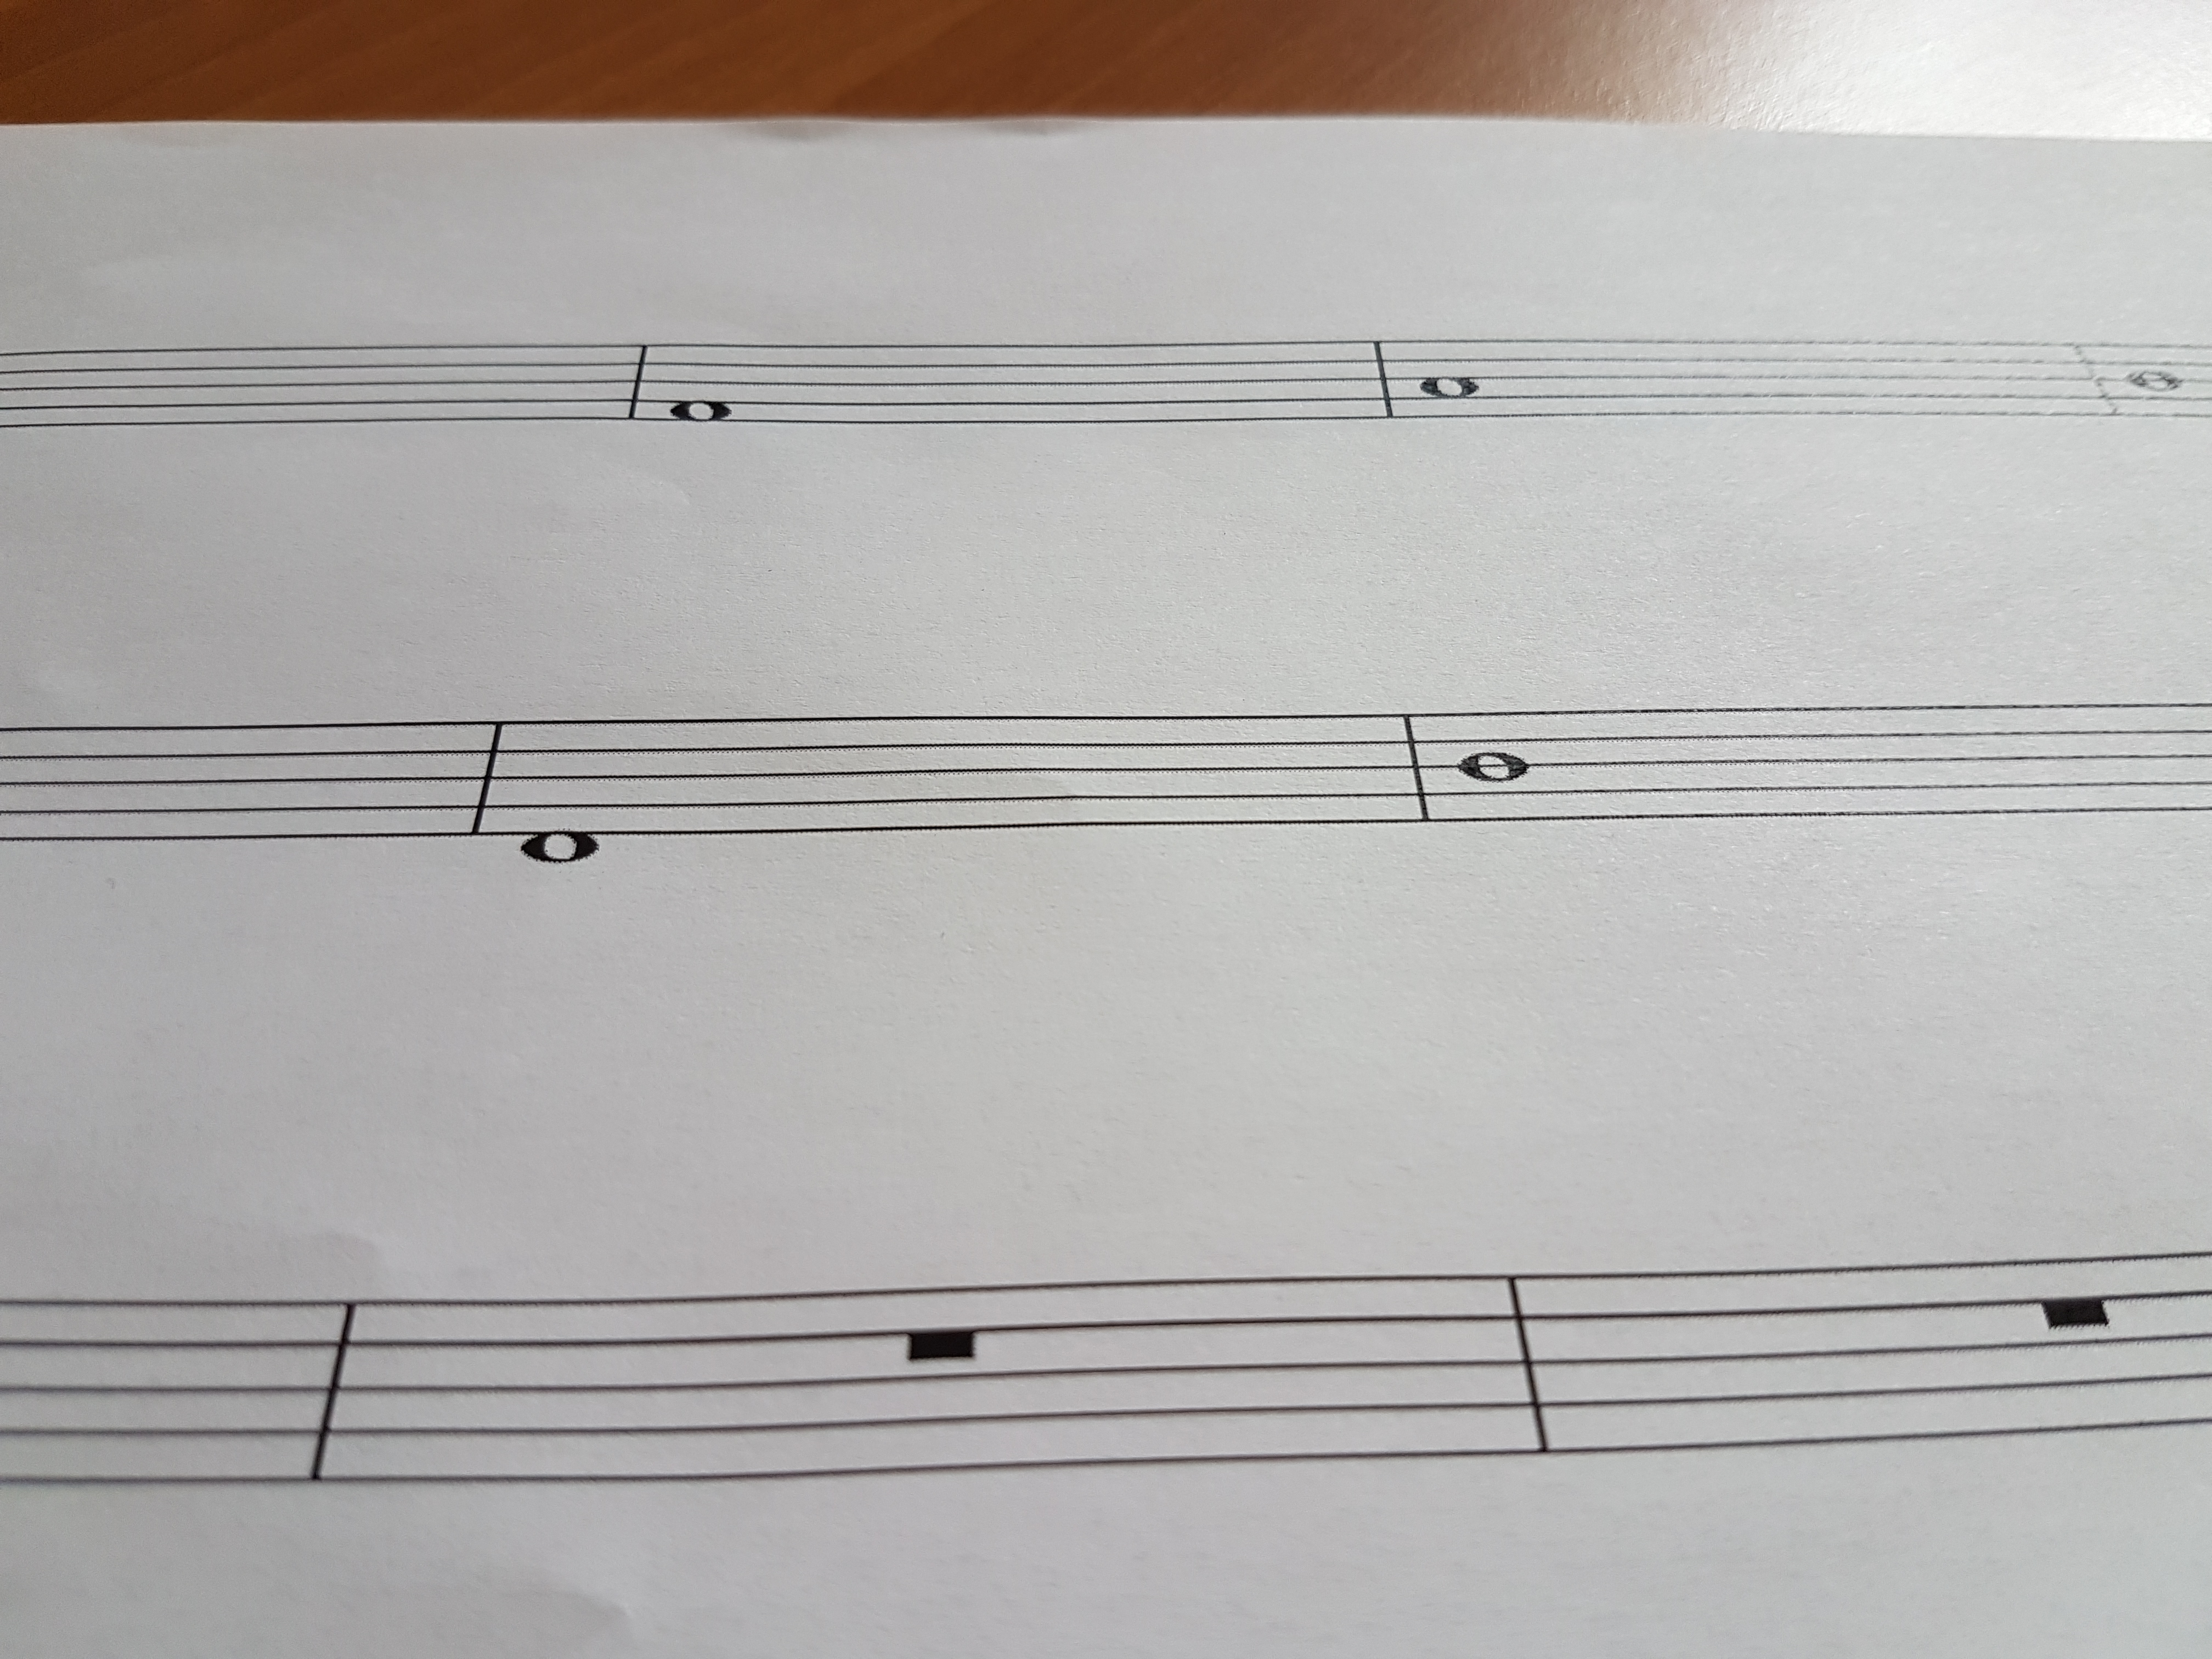pipe: (1498, 1251, 1562, 1473), (301, 1274, 362, 1506), (1390, 697, 1440, 836), (467, 706, 507, 850), (1364, 328, 1402, 434), (620, 331, 646, 434)
semibreve_a: (1416, 305, 1484, 441)
semibreve_d: (519, 692, 604, 908)
semibreve_f: (665, 321, 735, 458)
semibreve_h: (1449, 680, 1534, 859)
